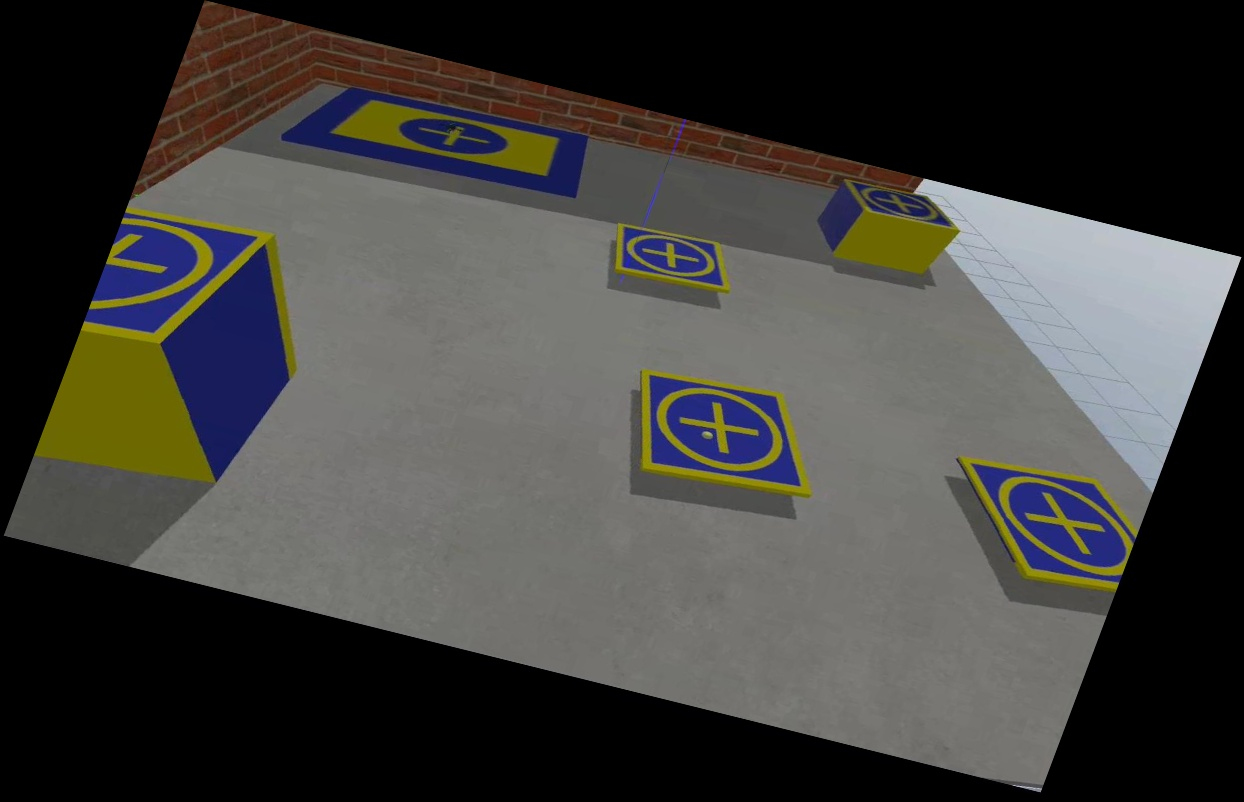large_base: (286, 74, 601, 210)
small_base: (919, 440, 1157, 603), (608, 360, 843, 509), (82, 193, 276, 362), (600, 217, 744, 301), (830, 176, 971, 238)
